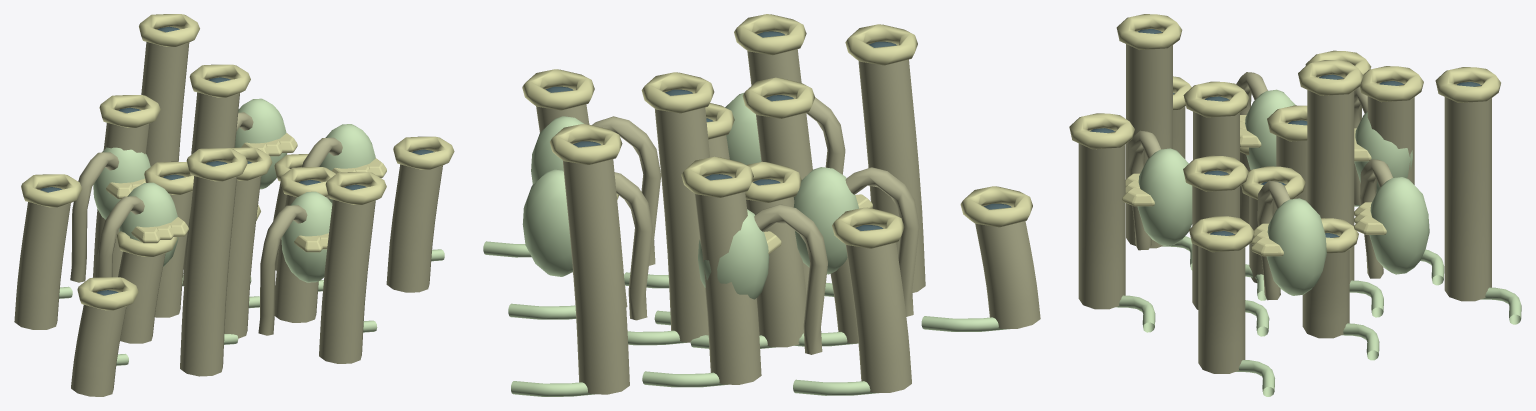
File: bio_thermal_colony_23_far.glb
3 views of the same model, side by side, from view 1: azimuth 30°, elevation 25°; view 2: azimuth 150°, elevation 25°; view 3: azimuth 270°, elevation 25° (orthographic). The views are drawn at different scales.
Visible parts, largest first — view 1: Chimney biofilm.007, Chimney biofilm.010, Chimney biofilm.013, Chimney biofilm.009, Chimney biofilm.011, Chimney biofilm.012, Chimney biofilm.002, Chimney biofilm.004, Pendant spore capsule.002, Chimney biofilm.003, Arched fruit stem.002, Chimney biofilm.005 (+27 smaller); view 2: Chimney biofilm.011, Chimney biofilm.003, Chimney biofilm.006, Chimney biofilm.009, Chimney biofilm.007, Chimney biofilm.012, Chimney biofilm.001, Pendant spore capsule.003, Pendant spore capsule.004, Arched fruit stem.001, Pendant spore capsule.001, Arched fruit stem.004 (+27 smaller); view 3: Chimney biofilm.011, Chimney biofilm.010, Chimney biofilm.003, Chimney biofilm.013, Chimney biofilm.007, Pendant spore capsule.003, Pendant spore capsule, Pendant spore capsule.002, Chimney biofilm.008, Chimney biofilm.006, Pendant spore capsule.004, Chimney biofilm.002 (+35 smaller).
Boxes of the visible parts, x1,y1,x2,y2 form: Chimney biofilm.007: [180, 176, 236, 376]; Chimney biofilm.010: [319, 199, 375, 363]; Chimney biofilm.013: [386, 164, 442, 292]; Chimney biofilm.009: [14, 202, 70, 329]; Chimney biofilm.011: [141, 42, 189, 166]; Chimney biofilm.012: [71, 305, 126, 396]; Chimney biofilm.002: [224, 176, 261, 338]; Chimney biofilm.004: [118, 251, 165, 343]; Pendant spore capsule.002: [281, 191, 332, 282]; Chimney biofilm.003: [183, 92, 239, 285]; Arched fruit stem.002: [258, 205, 307, 335]; Chimney biofilm.005: [274, 194, 329, 322]; Chimney biofilm.011: [562, 159, 629, 394]; Chimney biofilm.003: [655, 107, 709, 342]; Chimney biofilm.006: [694, 192, 761, 384]; Chimney biofilm.009: [845, 242, 911, 392]; Chimney biofilm.007: [858, 44, 925, 292]; Chimney biofilm.012: [975, 221, 1040, 328]; Chimney biofilm.001: [746, 181, 806, 347]; Pendant spore capsule.003: [522, 169, 572, 276]; Pendant spore capsule.004: [793, 167, 859, 274]; Arched fruit stem.001: [754, 204, 827, 354]; Pendant spore capsule.001: [698, 209, 769, 299]; Arched fruit stem.004: [845, 167, 919, 316]; Chimney biofilm.011: [1444, 85, 1491, 301]; Chimney biofilm.010: [1078, 131, 1125, 309]; Chimney biofilm.003: [1307, 77, 1354, 283]; Chimney biofilm.013: [1198, 234, 1245, 373]; Chimney biofilm.007: [1126, 32, 1172, 248]; Pendant spore capsule.003: [1369, 177, 1429, 274]; Pendant spore capsule: [1266, 198, 1326, 295]; Pendant spore capsule.002: [1137, 148, 1192, 245]; Chimney biofilm.008: [1302, 236, 1349, 338]; Chimney biofilm.006: [1367, 84, 1414, 184]; Pendant spore capsule.004: [1245, 89, 1295, 169]; Chimney biofilm.002: [1193, 99, 1239, 217].
Bounding box in the file's own units: 2.19 × 1.07 × 1.92.
